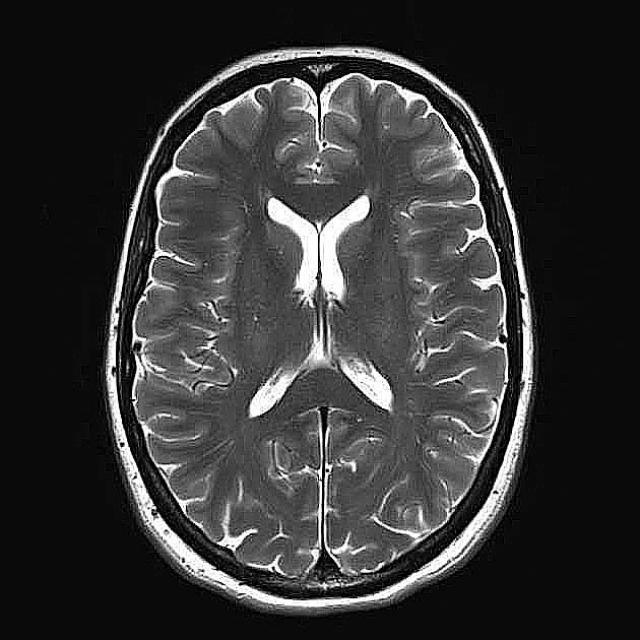notumor: (107, 49, 533, 615)
